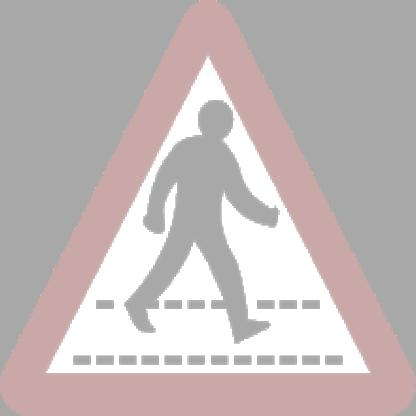Pedestrian Crossing: (20, 23, 392, 399)
